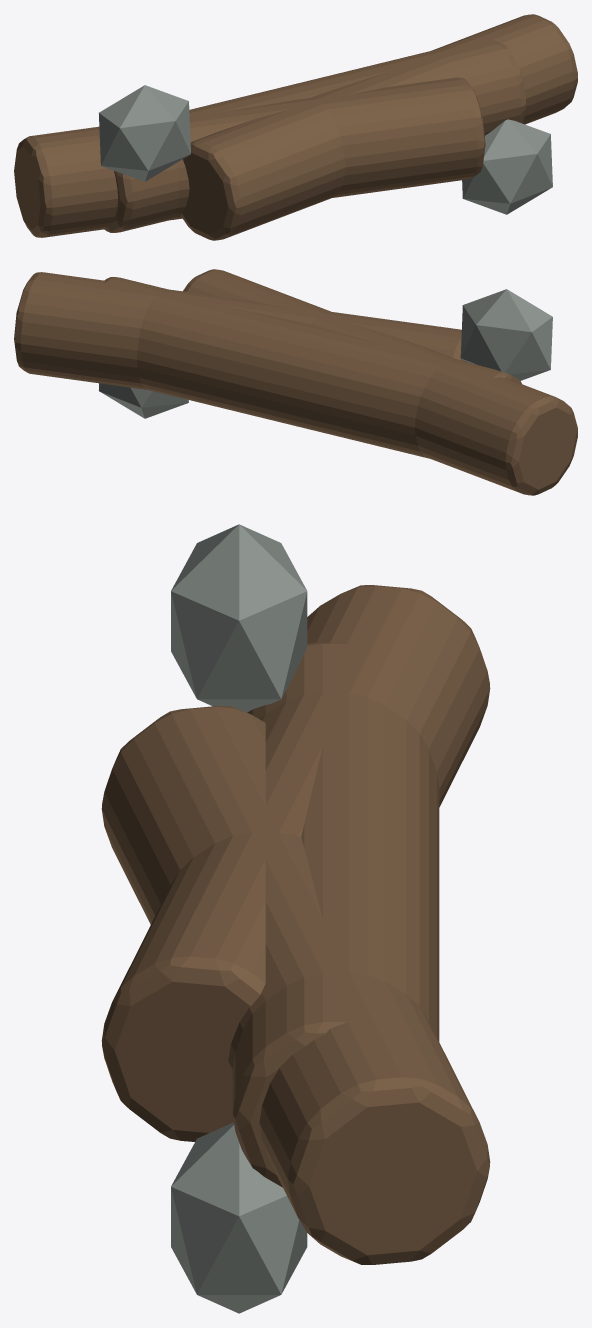
The model's file is fallen_timber_cluster.glb.
The picture shows the model from 3 angles, top to bottom: view 1: azimuth 30°, elevation 25°; view 2: azimuth 150°, elevation 25°; view 3: azimuth 270°, elevation 25°; orthographic projection. The views are drawn at different scales.
Parts seen in each view (by area): view 1: Log00, Log02, Log01, LogChockA, LogChockB; view 2: Log01, Log00, Log02, LogChockA, LogChockB; view 3: Log02, Log00, Log01, LogChockA, LogChockB.
Boxes of the visible parts, left/top/right/bottom form: Log00: left=14, top=77, right=485, bottom=237; Log02: left=181, top=14, right=577, bottom=240; Log01: left=104, top=39, right=525, bottom=232; LogChockA: left=99, top=85, right=190, bottom=181; LogChockB: left=462, top=119, right=552, bottom=214; Log01: left=104, top=277, right=521, bottom=458; Log00: left=183, top=269, right=577, bottom=495; Log02: left=14, top=272, right=466, bottom=389; LogChockA: left=460, top=289, right=552, bottom=380; LogChockB: left=99, top=383, right=188, bottom=418; Log02: left=101, top=705, right=490, bottom=1264; Log00: left=101, top=585, right=490, bottom=1141; Log01: left=232, top=643, right=439, bottom=1187; LogChockA: left=171, top=524, right=307, bottom=712; LogChockB: left=171, top=1122, right=307, bottom=1313.
Size of the model in its own units: 3.7 by 1.44 by 1.16.
